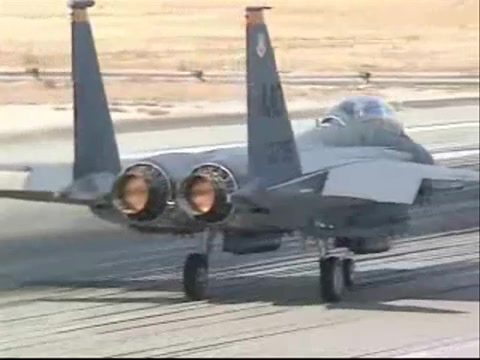aeroplane: (1, 1, 480, 305)
